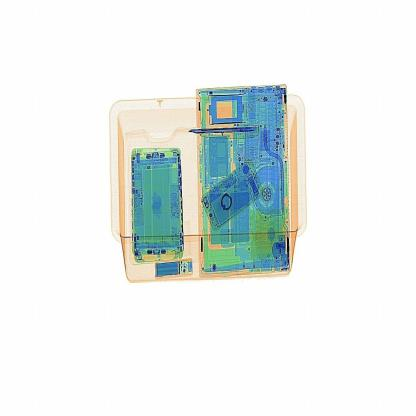wrench: (185, 124, 260, 140)
